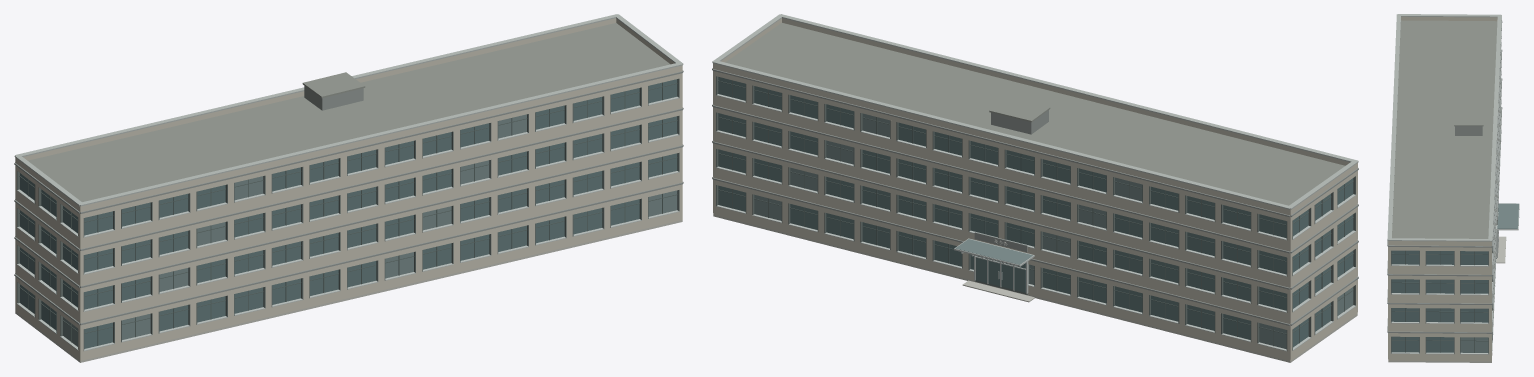
File: mapped_271365637.glb
3 renders of one model, left to right at view 1: azimuth 30°, elevation 25°; view 2: azimuth 150°, elevation 25°; view 3: azimuth 270°, elevation 25°, orthographic. The views are drawn at different scales.
Visible parts, largest first — view 1: mapped_271365637_ServiceWarm, mapped_271365637_WindowGlass, mapped_271365637_FacultyRoof, mapped_271365637_FacultyDarkPanel, mapped_271365637_WindowAluminium, mapped_271365637_WindowReveal, mapped_271365637_Teaching5TileJoint, mapped_271365637_WindowGlassLight, mapped_271365637_WindowRubber, mapped_271365637_EntryStone; view 2: mapped_271365637_ServiceWarm, mapped_271365637_WindowGlass, mapped_271365637_FacultyRoof, mapped_271365637_FacultyDarkPanel, mapped_271365637_WindowAluminium, mapped_271365637_WindowReveal, mapped_271365637_Teaching5TileJoint, mapped_271365637_WindowGlassLight, mapped_271365637_WindowRubber, mapped_271365637_EntryStone; view 3: mapped_271365637_FacultyRoof, mapped_271365637_ServiceWarm, mapped_271365637_WindowGlass, mapped_271365637_Teaching5TileJoint, mapped_271365637_FacultyDarkPanel, mapped_271365637_WindowAluminium, mapped_271365637_WindowGlassLight, mapped_271365637_WindowRubber, mapped_271365637_WindowReveal, mapped_271365637_EntryStone.
Boxes of the visible parts, <box> form: mapped_271365637_ServiceWarm: <box>15,18,682,360</box>; mapped_271365637_WindowGlass: <box>20,79,677,348</box>; mapped_271365637_FacultyRoof: <box>28,23,670,201</box>; mapped_271365637_FacultyDarkPanel: <box>14,70,683,325</box>; mapped_271365637_WindowAluminium: <box>16,96,679,351</box>; mapped_271365637_WindowReveal: <box>17,78,679,350</box>; mapped_271365637_Teaching5TileJoint: <box>14,14,683,206</box>; mapped_271365637_WindowGlassLight: <box>63,114,677,346</box>; mapped_271365637_WindowRubber: <box>19,82,677,345</box>; mapped_271365637_EntryStone: <box>15,220,682,362</box>; mapped_271365637_ServiceWarm: <box>713,18,1357,360</box>; mapped_271365637_WindowGlass: <box>718,77,1353,347</box>; mapped_271365637_FacultyRoof: <box>725,23,1345,205</box>; mapped_271365637_FacultyDarkPanel: <box>712,68,1358,325</box>; mapped_271365637_WindowAluminium: <box>716,94,1356,351</box>; mapped_271365637_WindowReveal: <box>716,76,1355,350</box>; mapped_271365637_Teaching5TileJoint: <box>712,14,1358,209</box>; mapped_271365637_WindowGlassLight: <box>754,113,1353,349</box>; mapped_271365637_WindowRubber: <box>718,80,1353,346</box>; mapped_271365637_EntryStone: <box>713,214,1357,362</box>; mapped_271365637_FacultyRoof: <box>1392,20,1497,238</box>; mapped_271365637_ServiceWarm: <box>1388,16,1500,361</box>; mapped_271365637_WindowGlass: <box>1391,250,1488,352</box>; mapped_271365637_Teaching5TileJoint: <box>1387,14,1501,241</box>; mapped_271365637_FacultyDarkPanel: <box>1387,21,1502,333</box>; mapped_271365637_WindowAluminium: <box>1391,42,1519,354</box>; mapped_271365637_WindowGlassLight: <box>1460,203,1518,352</box>; mapped_271365637_WindowRubber: <box>1391,250,1488,352</box>; mapped_271365637_WindowReveal: <box>1391,141,1500,353</box>; mapped_271365637_EntryStone: <box>1388,236,1506,362</box>.
Size of the model in its own units: 58.05 by 15.88 by 14.31.
